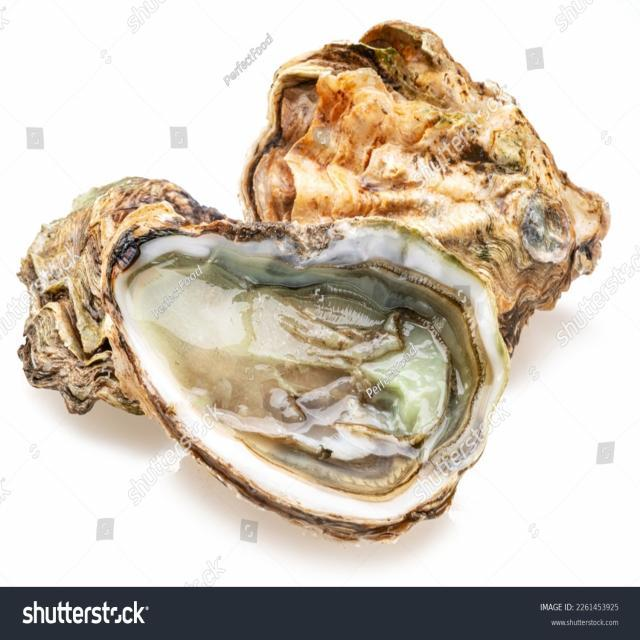Oyster- Indeterminate: (247, 21, 610, 351)
Oyster-Closed: (17, 177, 224, 446)
Oyster-Open: (110, 221, 512, 544)
